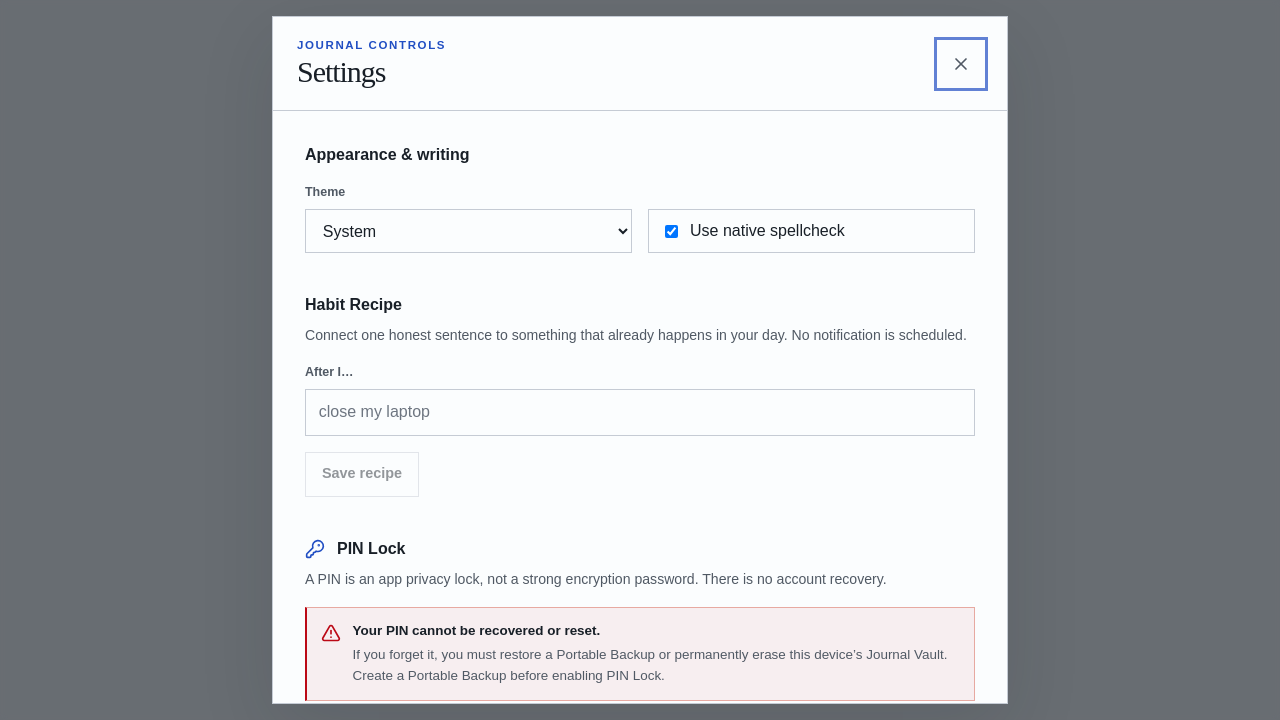
release Settings › moves focus to a Settings action error so assistive technology announces it
Select "Dark" in the dropdown labelled "Theme" at (468, 231), box [305,209,632,253]
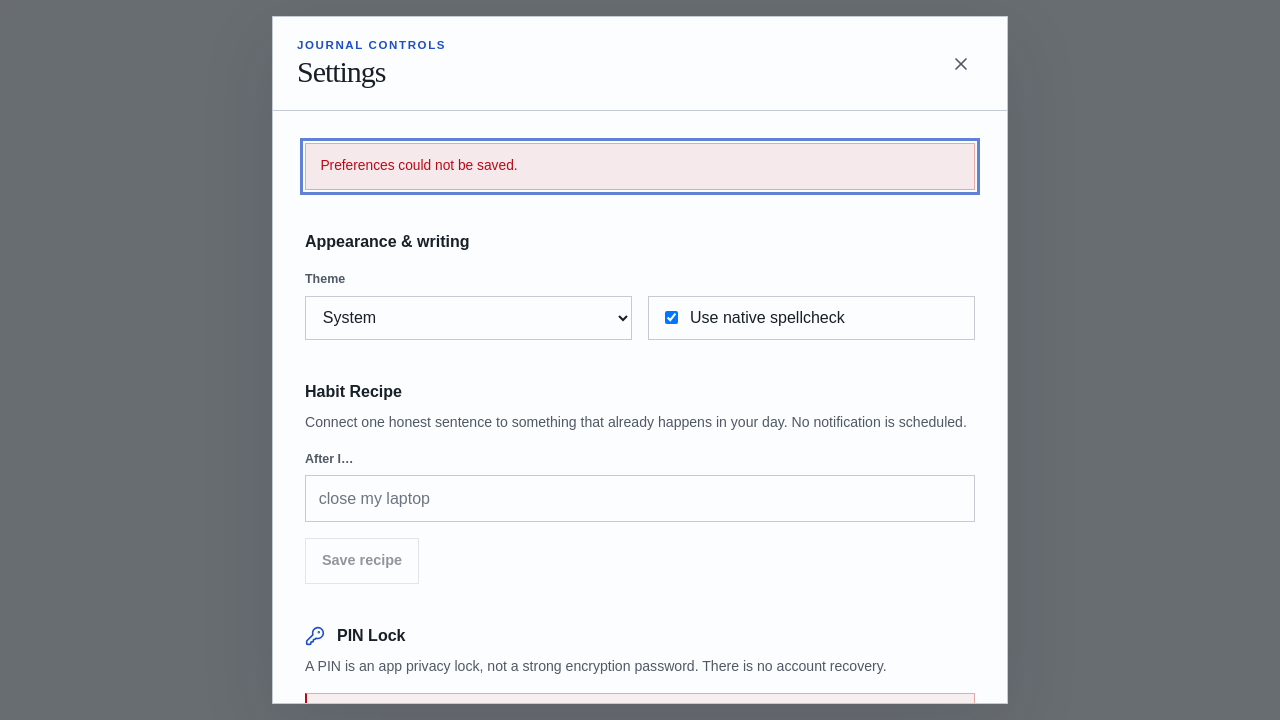
Check: the message reads "Preferences could not be saved.", box [320,158,518,173]
